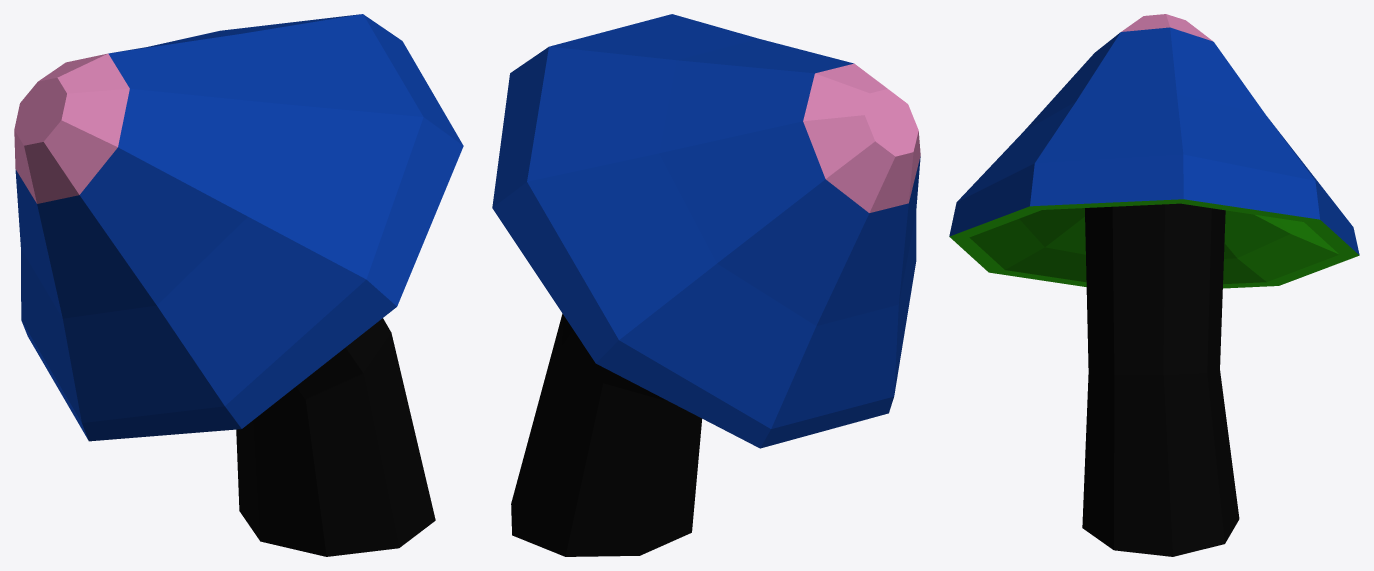
File: Mushroom01_BH.fbx
3 renders of one model, left to right at view 1: azimuth 30°, elevation 25°; view 2: azimuth 150°, elevation 25°; view 3: azimuth 270°, elevation 25°, orthographic. The views are drawn at different scales.
Parts seen in each view (by area): view 1: Mushroom01_BH; view 2: Mushroom01_BH; view 3: Mushroom01_BH.
Part boxes in pixels (x1,y1,x2,y2): Mushroom01_BH: [14, 14, 463, 556]; Mushroom01_BH: [492, 14, 920, 556]; Mushroom01_BH: [949, 14, 1359, 556].
Bounding box in the file's own units: 43.3 × 53.01 × 48.14.
